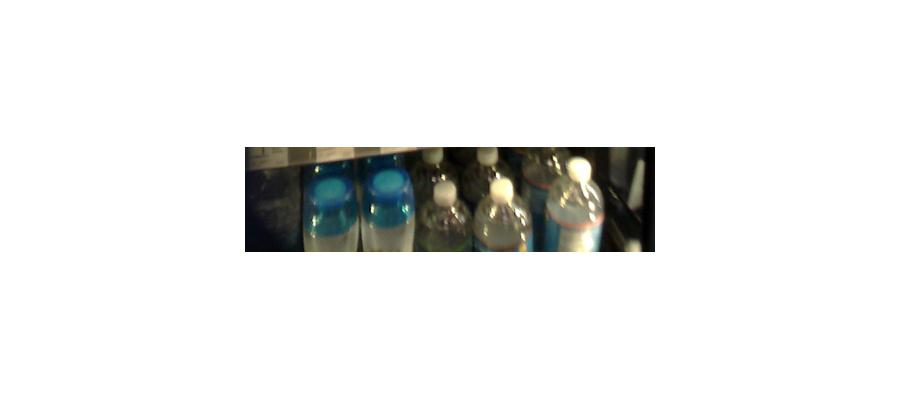bottle: (541, 152, 605, 252), (414, 164, 472, 253), (473, 168, 532, 251), (305, 163, 360, 250), (362, 168, 412, 248)
